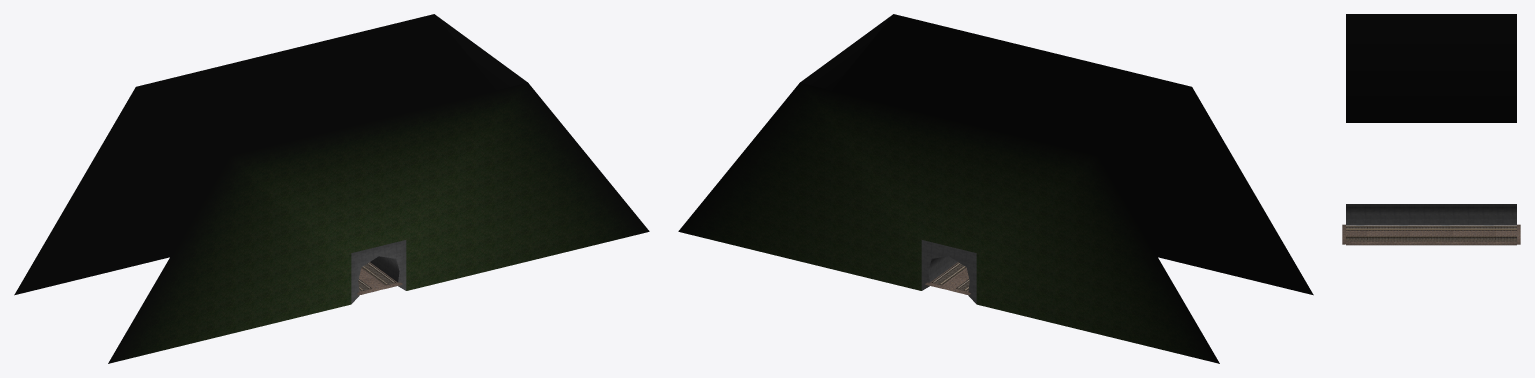
File: KIN_2RAIL_TONNEL.glb
3 views of the same model, side by side, from view 1: azimuth 30°, elevation 25°; view 2: azimuth 150°, elevation 25°; view 3: azimuth 270°, elevation 25° (orthographic). The views are drawn at different scales.
Visible parts, largest first — view 1: Jari_All; view 2: Jari_All; view 3: Jari_All, R000_RG_L, R000_RG_R.
Boxes of the visible parts, left/top/right/bottom form: Jari_All: left=14, top=14, right=649, bottom=363; Jari_All: left=678, top=14, right=1313, bottom=363; Jari_All: left=1342, top=14, right=1520, bottom=245; R000_RG_L: left=1346, top=228, right=1516, bottom=239; R000_RG_R: left=1346, top=226, right=1516, bottom=237.
Bounding box in the file's own units: 334 × 105 × 105.
8 materials, 7 textured.
